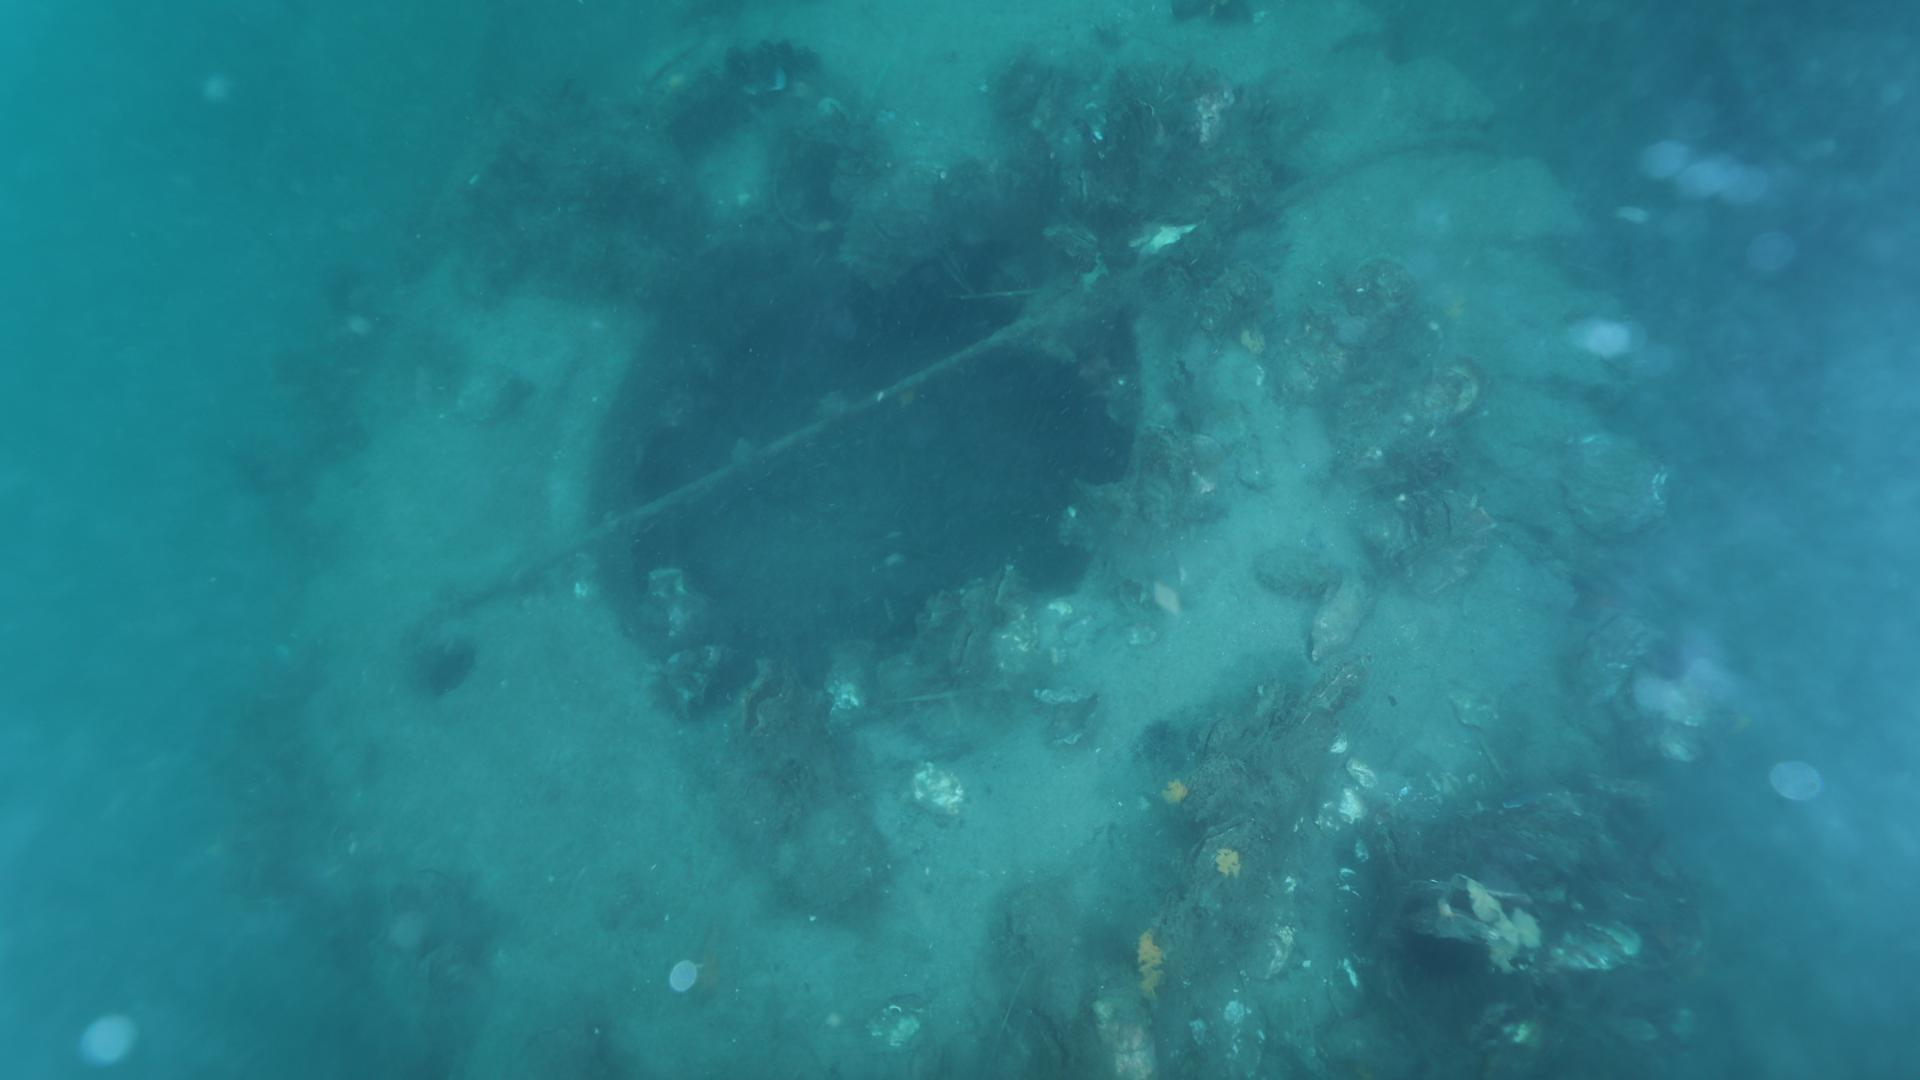tire: (301, 1, 1669, 1080)
